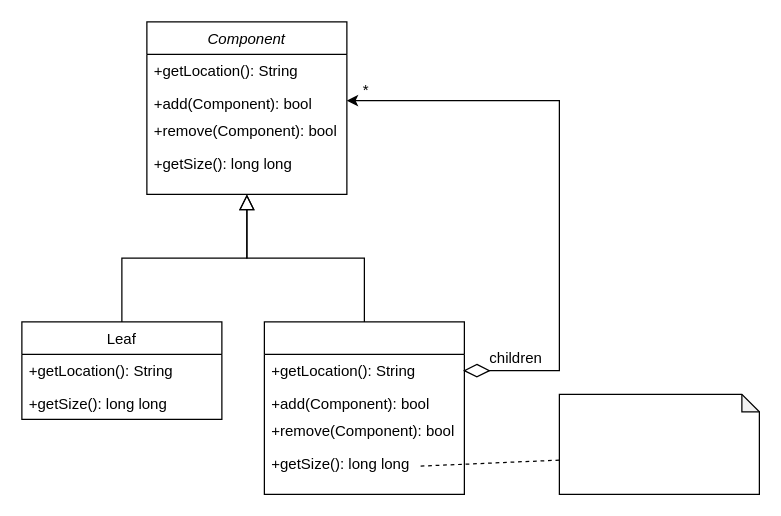
Image size: 781x516. Some labels were removed from this diagram. The box of each missing label's shape, as (x1, y1, x2, y2) in pixels:
Composite: (263, 321, 464, 494)
public long long getSize() { for all g in children size += g.getSize(); }: (558, 393, 759, 494)
